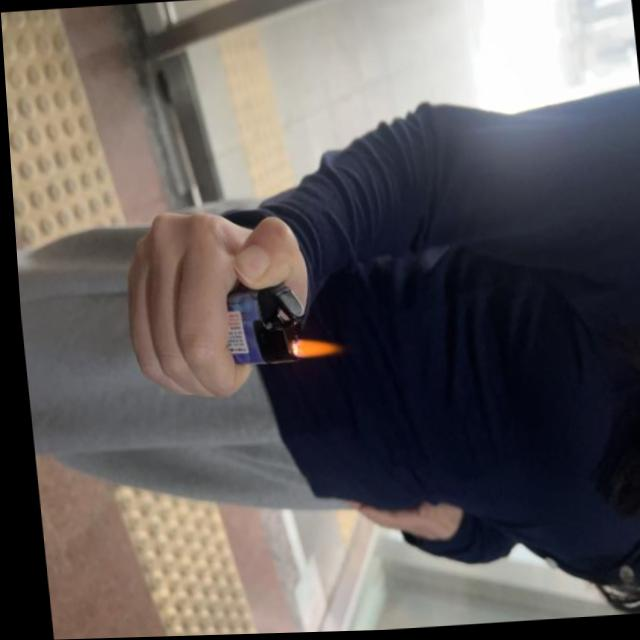Fire: (290, 335, 335, 361)
